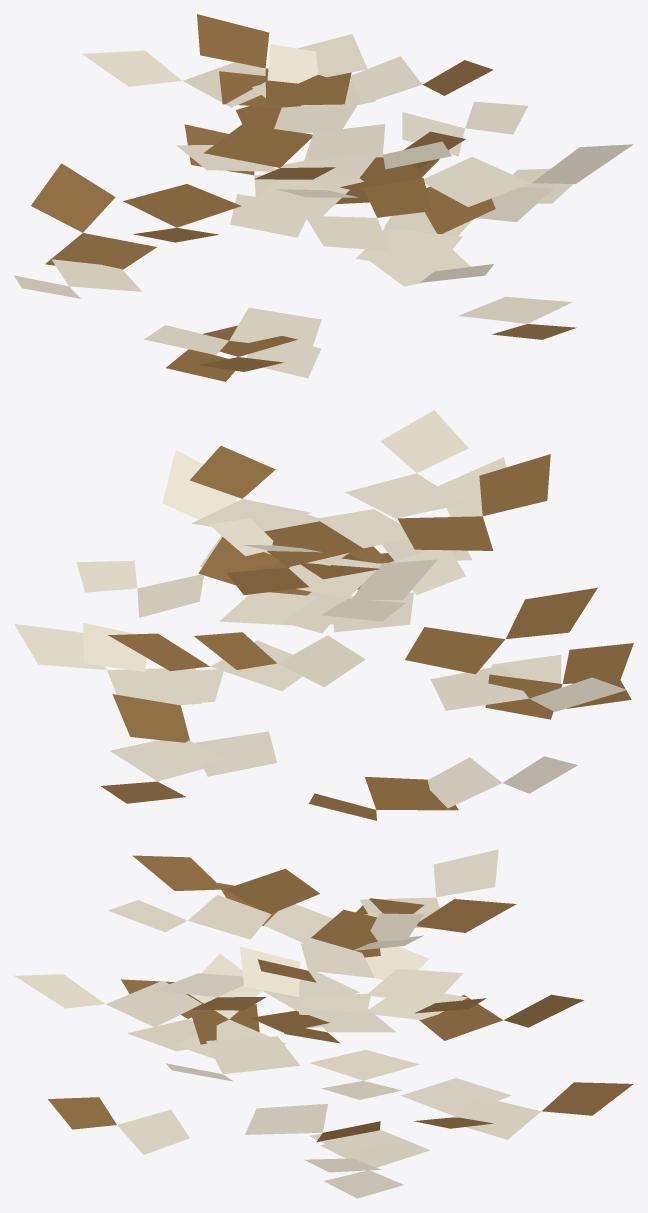
Rendered from coconut.glb.
3 views of the same model, one above another, from view 1: azimuth 30°, elevation 25°; view 2: azimuth 150°, elevation 25°; view 3: azimuth 270°, elevation 25° (orthographic). The views are drawn at different scales.
Size of the model in its own units: 0.9029 by 0.3064 by 0.9326.
